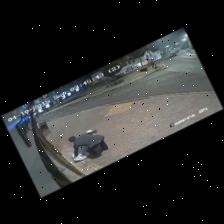person: (69, 131, 108, 156)
